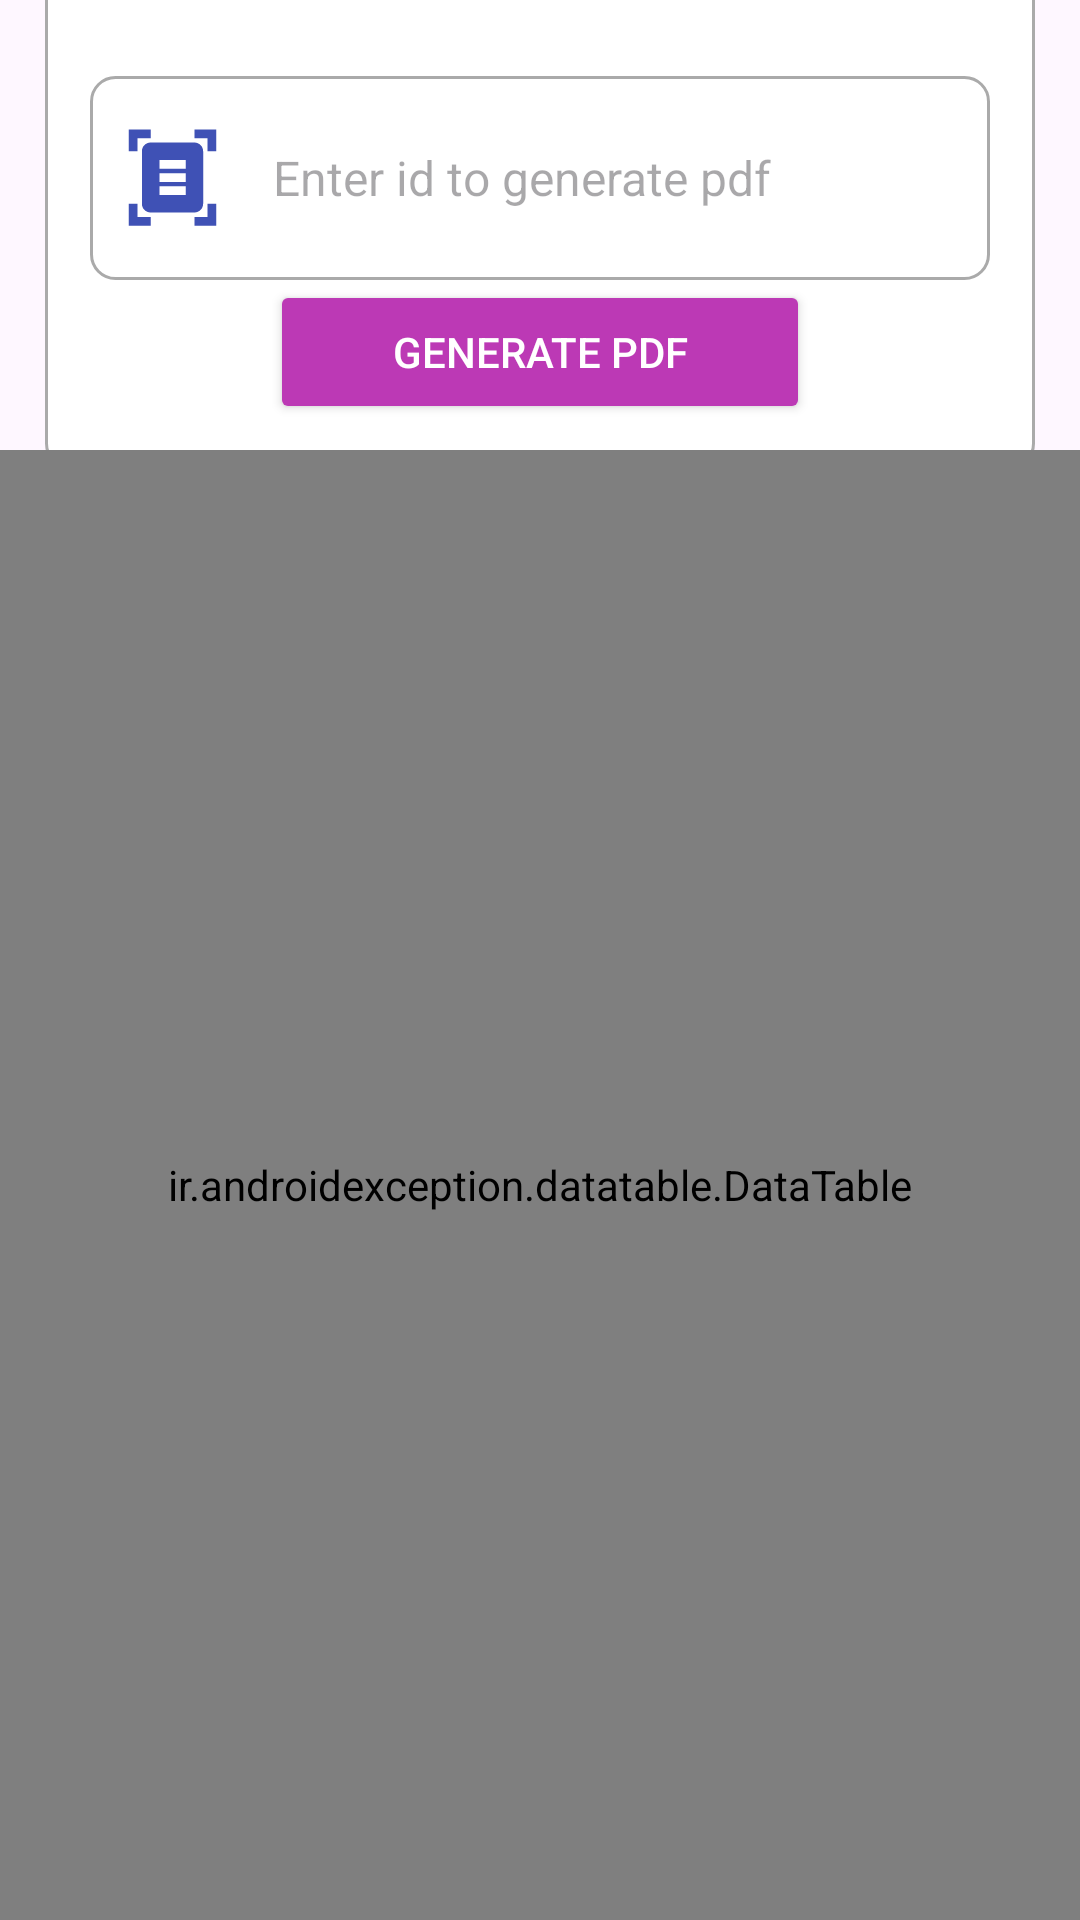

Icon bounding boxes for this 1080x1920 phone screenshot, format (x1, y1, x2, y2):
document scanner: (128, 129, 217, 226)
